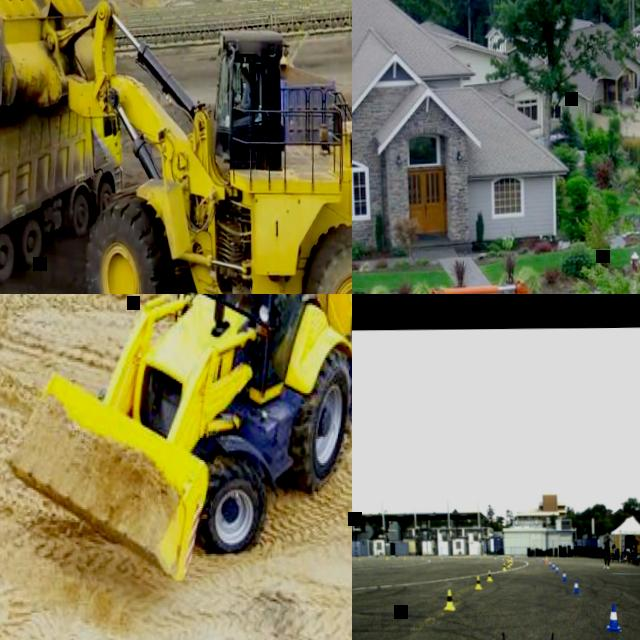NO-Hardhat: (240, 64, 248, 74), (603, 528, 607, 531), (633, 534, 635, 537), (626, 545, 628, 548), (622, 548, 624, 551)
NO-Mask: (240, 76, 245, 83)
NO-Safety Vest: (240, 81, 250, 103), (602, 534, 607, 546), (631, 546, 635, 553), (632, 539, 635, 547)
Person: (231, 64, 251, 116), (600, 527, 610, 568), (625, 543, 636, 563), (621, 548, 627, 559), (632, 535, 637, 547), (610, 546, 613, 560), (625, 545, 629, 552)
Safety Cone: (604, 602, 620, 630), (442, 588, 454, 610), (571, 578, 579, 593), (474, 575, 481, 589), (485, 569, 491, 581), (560, 570, 566, 580), (543, 554, 547, 563), (553, 564, 557, 572), (501, 562, 505, 570), (550, 561, 553, 568), (506, 560, 509, 567), (547, 559, 550, 565), (508, 559, 511, 565), (510, 555, 512, 564), (357, 555, 360, 560), (543, 556, 545, 562), (534, 555, 537, 559), (402, 555, 405, 559), (506, 555, 508, 560), (458, 553, 460, 558), (439, 553, 441, 558), (421, 554, 423, 559), (385, 554, 387, 559), (608, 544, 610, 549), (541, 556, 543, 560), (525, 554, 527, 558), (515, 554, 517, 558), (500, 555, 502, 559), (493, 555, 495, 559), (479, 554, 481, 558), (391, 554, 393, 558), (368, 554, 370, 558), (610, 547, 612, 551), (508, 556, 509, 561)
vehicle: (0, 0, 352, 294), (0, 294, 352, 588), (0, 62, 125, 289), (224, 36, 337, 152)
